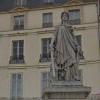Statue: (44, 4, 86, 87)
